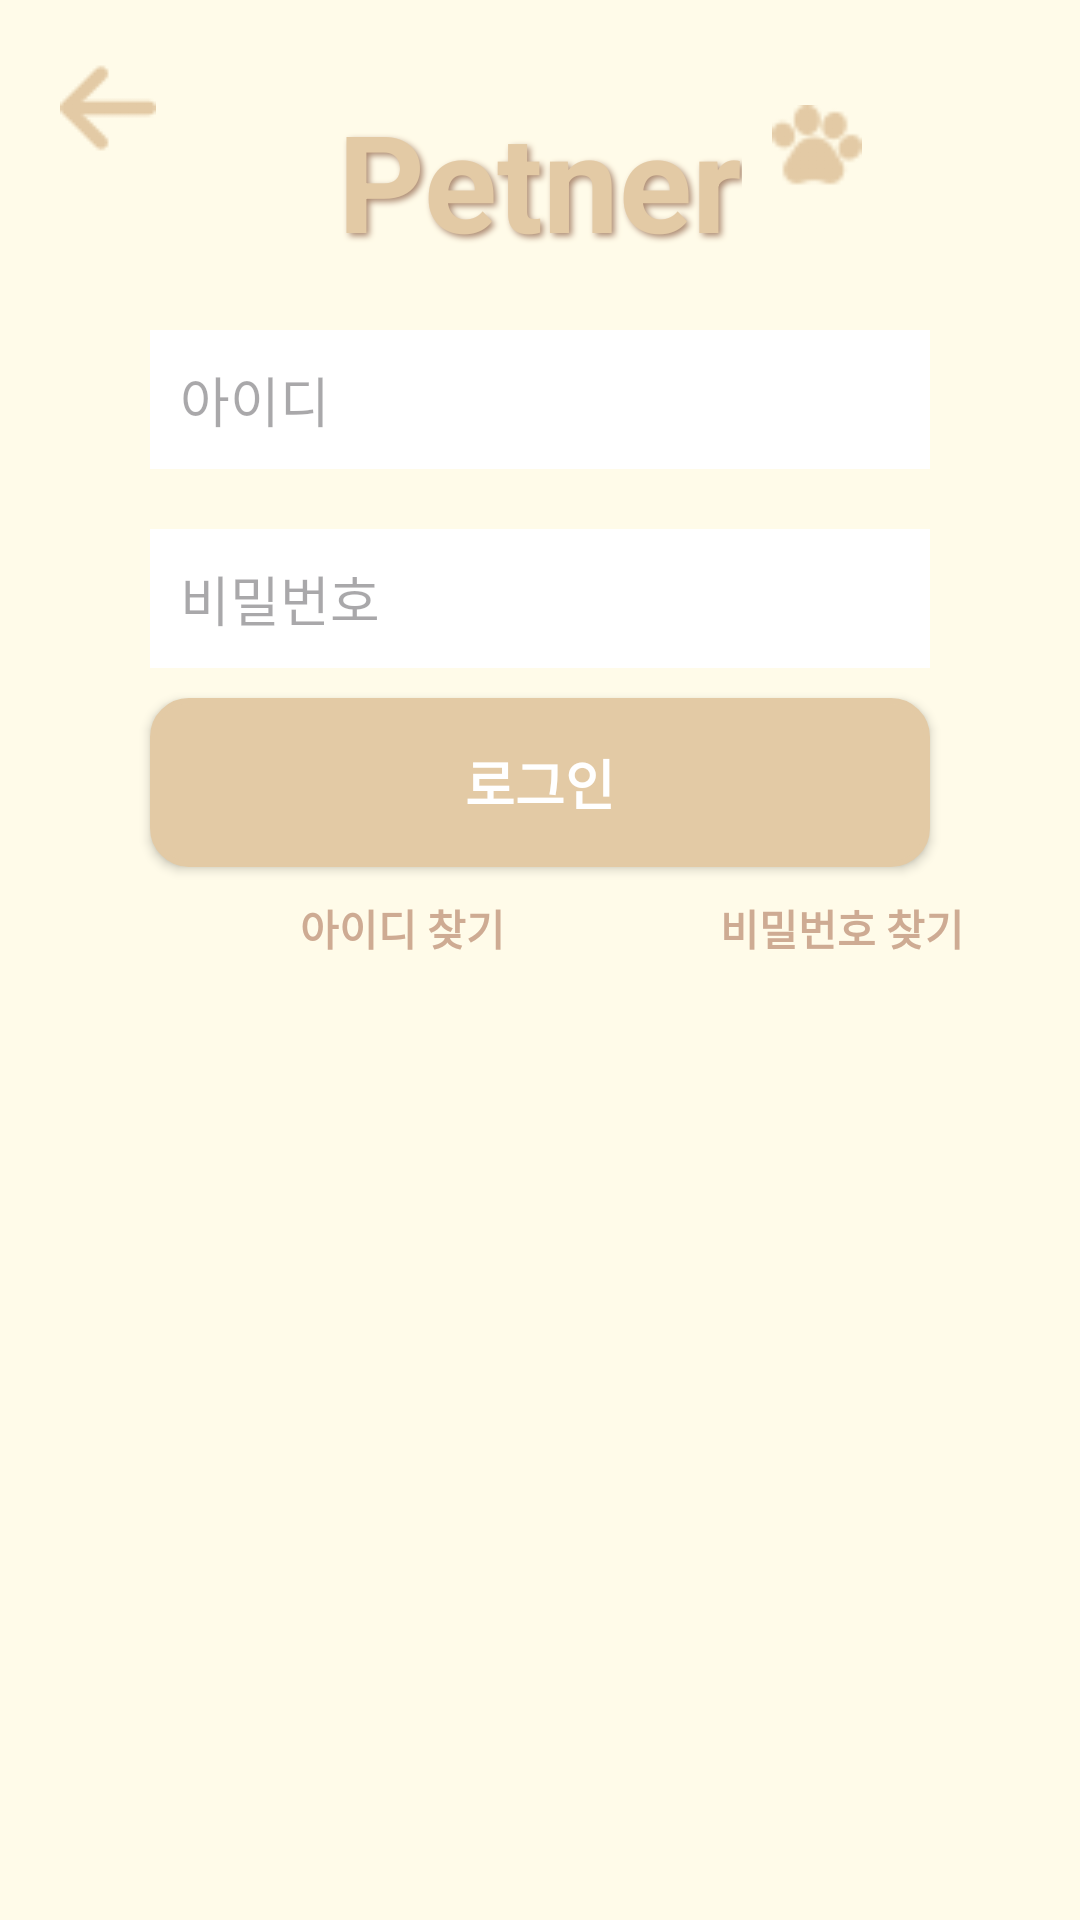

Screen size 1080 x 1920. Icon name, then its box in pixels as BBox(x1, y1, x2, y2):
arrow: BBox(60, 66, 156, 150)
pawprint: BBox(772, 105, 862, 184)
